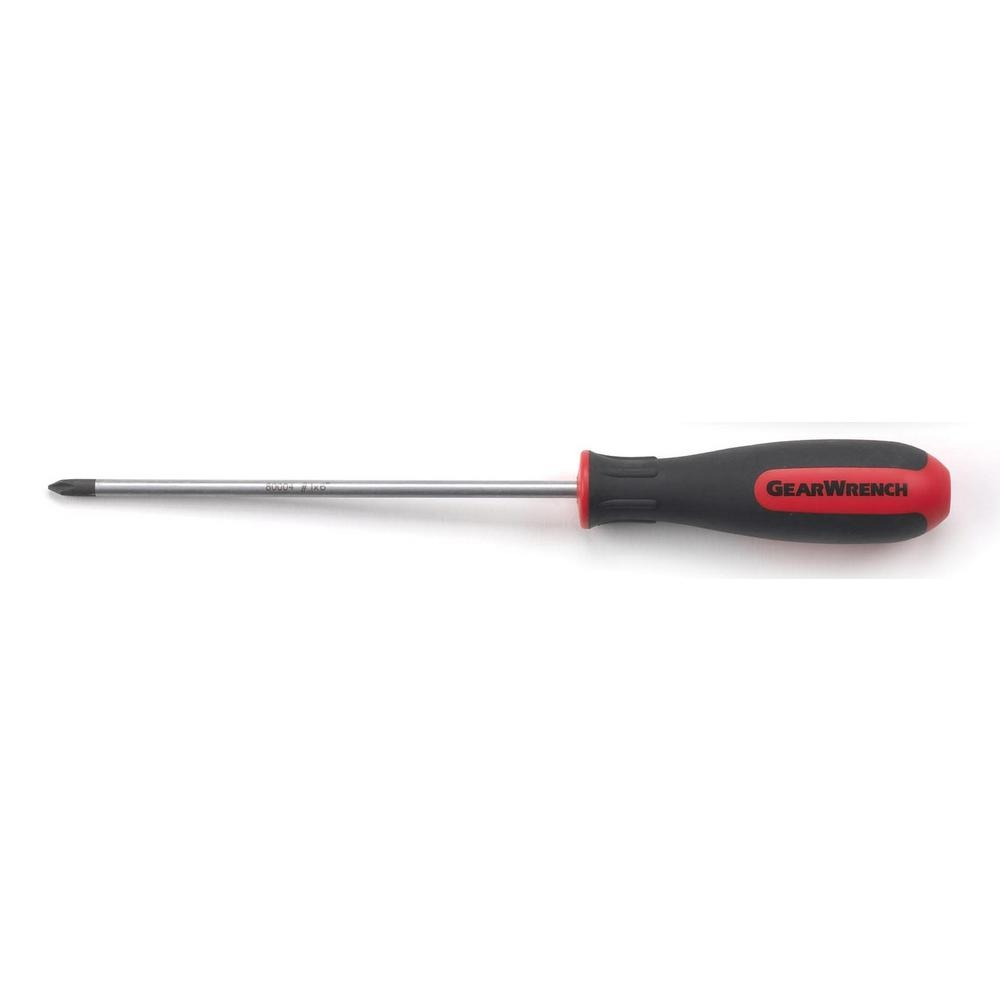screwdriver: (46, 434, 958, 546)
